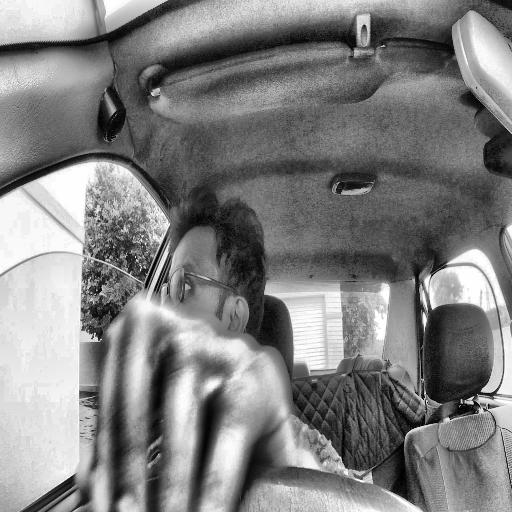awake: (158, 188, 267, 410)
